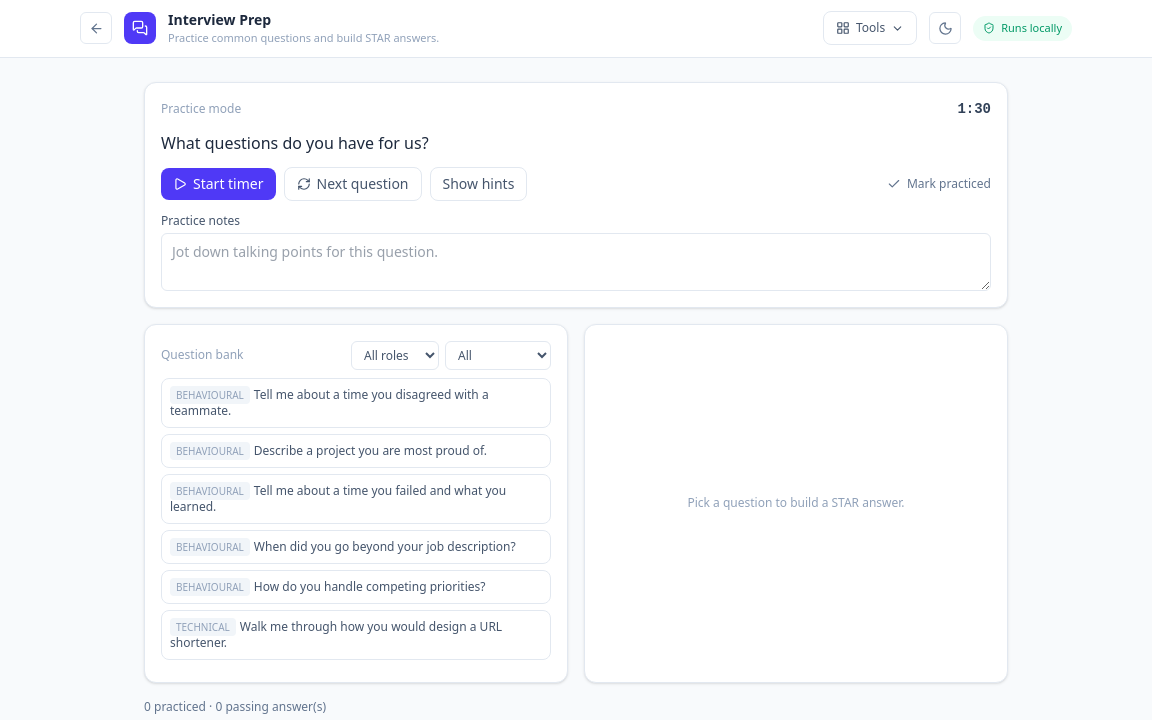
Scenario: InterviewApp › shows the practice prompt and toggles the timer
This screenshot has width=1152, height=720.
expect the text "Practice mode" is shown: met, box [161,100,241,116]
Click the button "Start timer": (218, 184) [161,168,276,200]
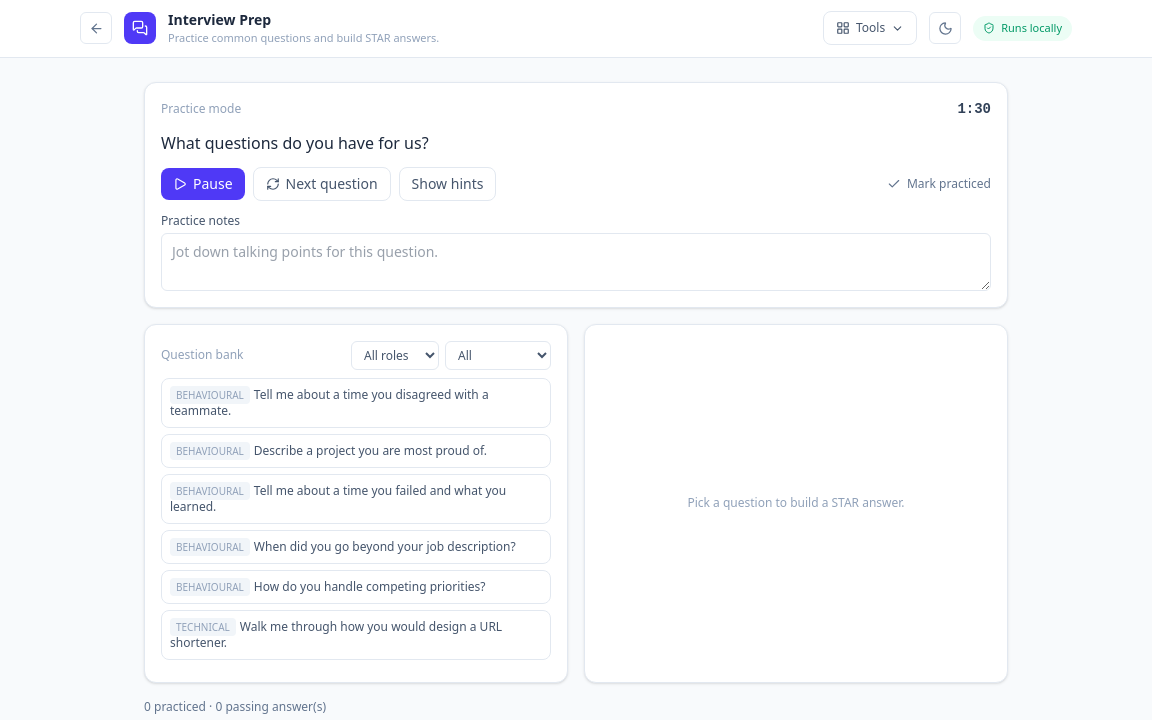
expect the button "Pause" is shown: met, box [161,168,245,200]
